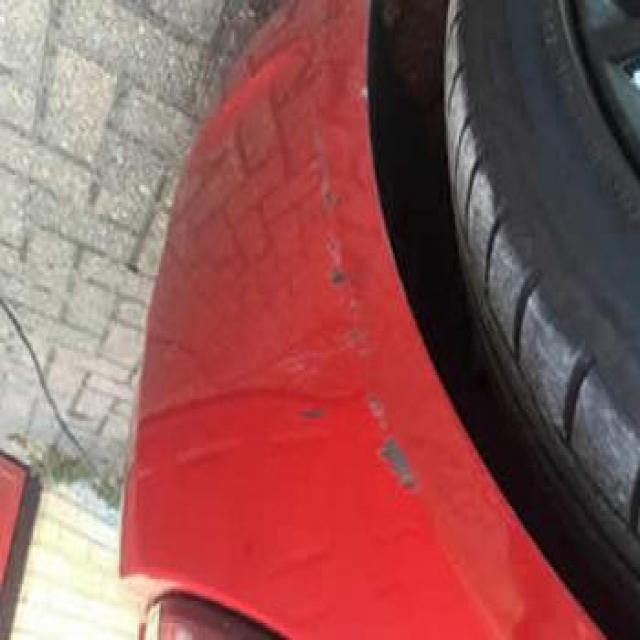scratch: (266, 113, 438, 554)
